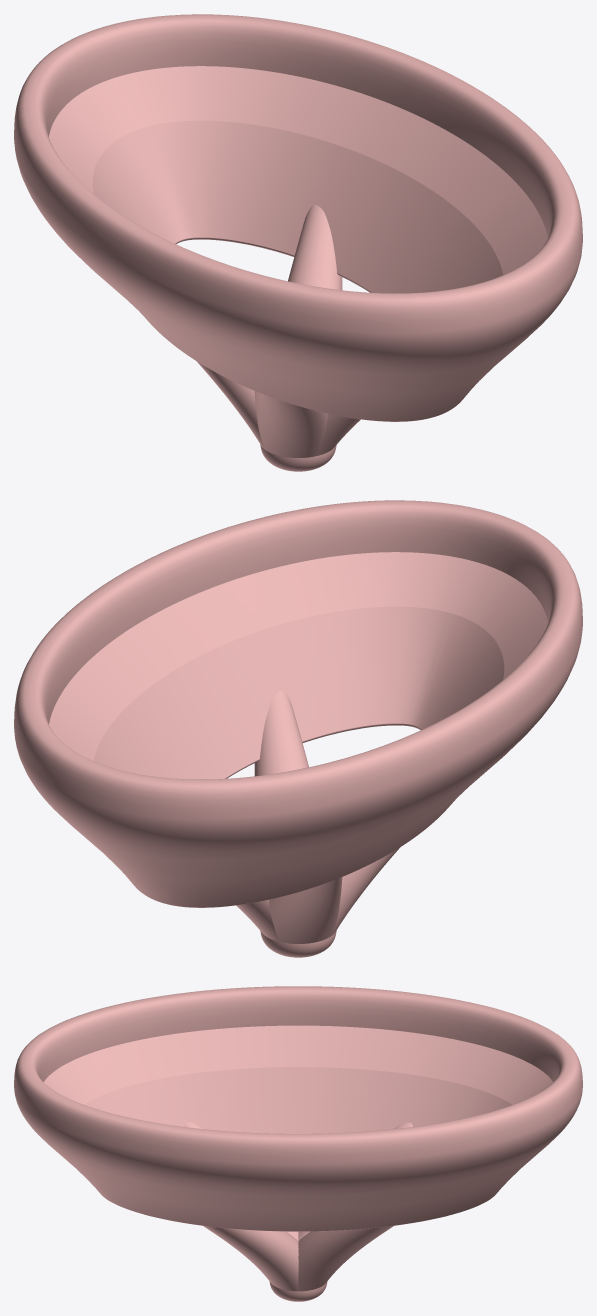
Rendered from OVAL.glb.
3 views of the same model, one above another, from view 1: azimuth 30°, elevation 25°; view 2: azimuth 150°, elevation 25°; view 3: azimuth 270°, elevation 25° (orthographic). The views are drawn at different scales.
Parts seen in each view (by area): view 1: Oval; view 2: Oval; view 3: Oval.
Boxes of the visible parts, x1,y1,x2,y2 form: Oval: (14, 14, 582, 471); Oval: (14, 500, 582, 957); Oval: (14, 986, 582, 1301).
Bounding box in the file's own units: 5.8 × 4.01 × 8.8.
